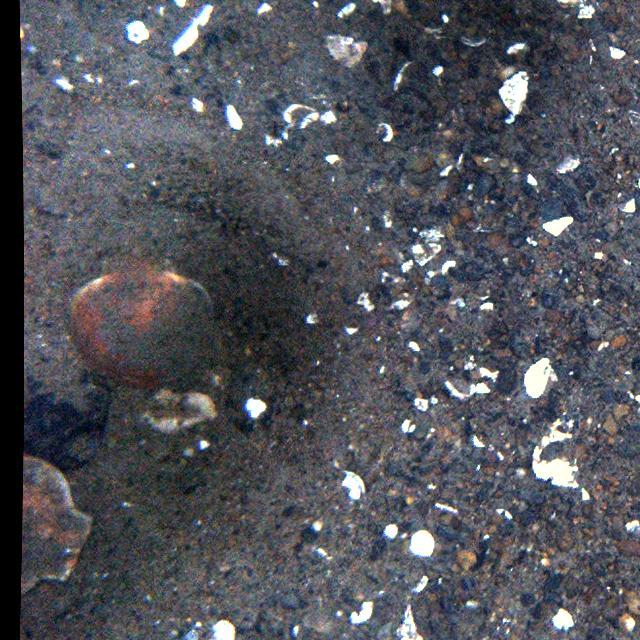scallop: (70, 250, 214, 388)
